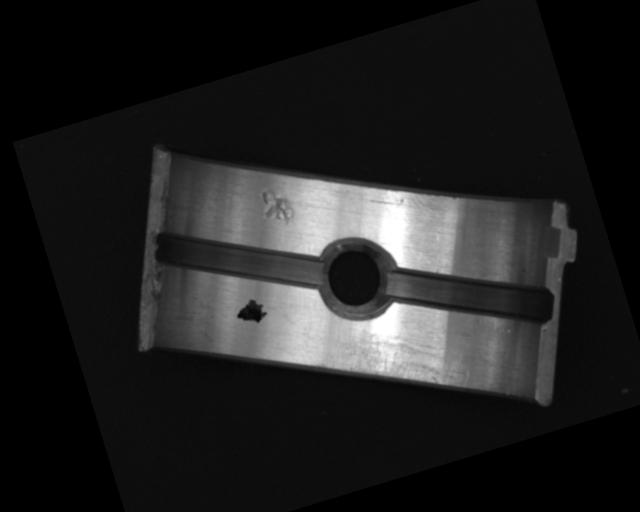blot: (231, 293, 270, 329)
bruise: (254, 182, 299, 234)
gap: (381, 223, 561, 363), (150, 190, 328, 328)
hole: (312, 228, 400, 329)
scratch: (328, 302, 473, 423)
